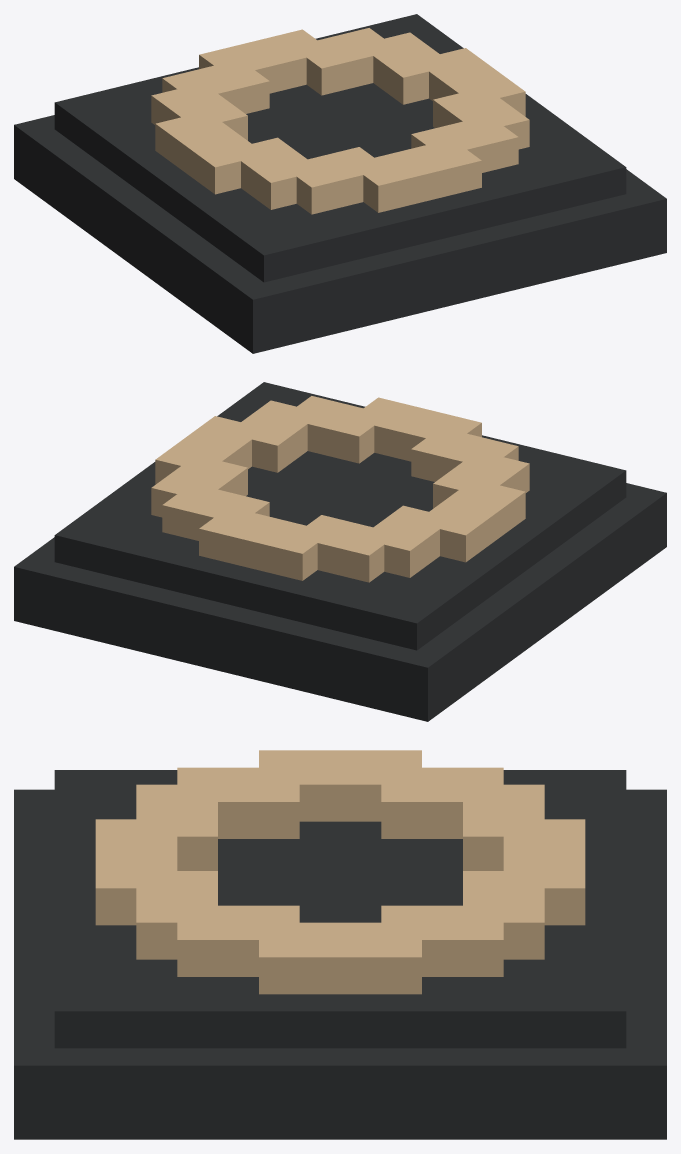
Rendered from o-v2-black-tan.gltf.
The picture shows the model from 3 angles, top to bottom: view 1: azimuth 30°, elevation 25°; view 2: azimuth 150°, elevation 25°; view 3: azimuth 270°, elevation 25°; orthographic projection. The views are drawn at different scales.
Visible parts, largest first — view 1: Untitled; view 2: Untitled; view 3: Untitled.
Boxes of the visible parts, x1,y1,x2,y2 form: Untitled: (14, 14, 666, 353); Untitled: (14, 382, 666, 721); Untitled: (14, 750, 666, 1139).
Bounding box in the file's own units: 1.6 × 0.4 × 1.6.
1 material, 1 textured.
